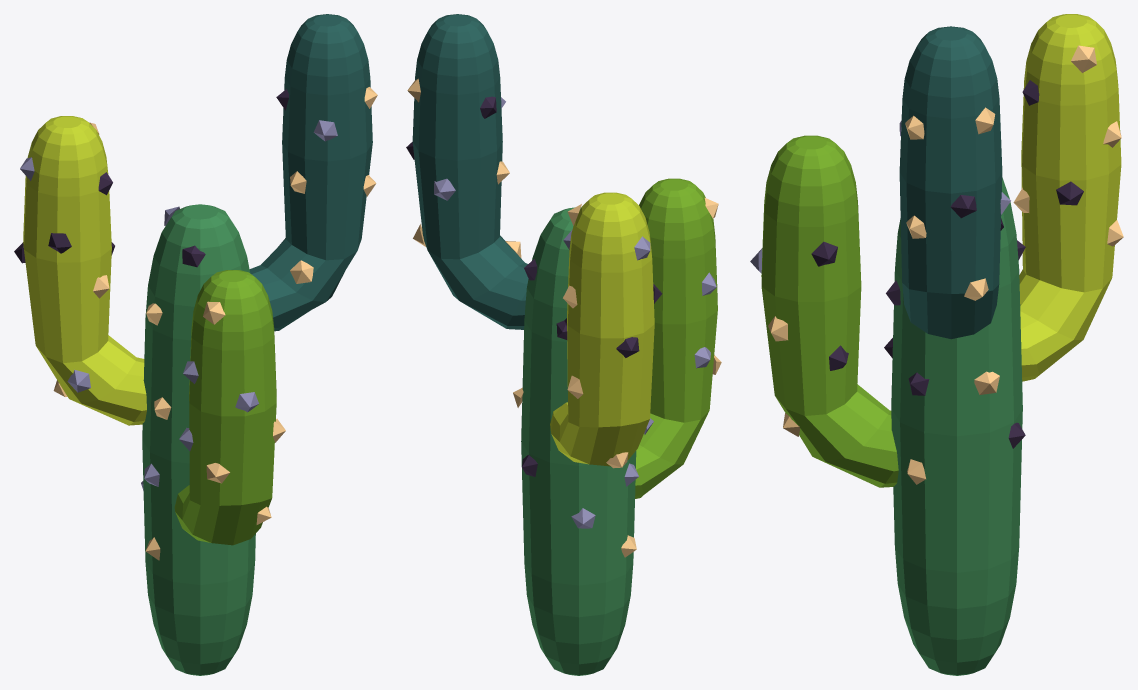
Rendered from Cactus.fbx.
3 renders of one model, left to right at view 1: azimuth 30°, elevation 25°; view 2: azimuth 150°, elevation 25°; view 3: azimuth 270°, elevation 25°, orthographic. The views are drawn at different scales.
Visible parts, largest first — view 1: Cylinder.001; view 2: Cylinder.001; view 3: Cylinder.001.
Boxes of the visible parts, x1,y1,x2,y2 form: Cylinder.001: [14, 14, 377, 675]; Cylinder.001: [406, 14, 721, 675]; Cylinder.001: [750, 14, 1123, 675].
Size of the model in its own units: 385 by 773 by 373.
